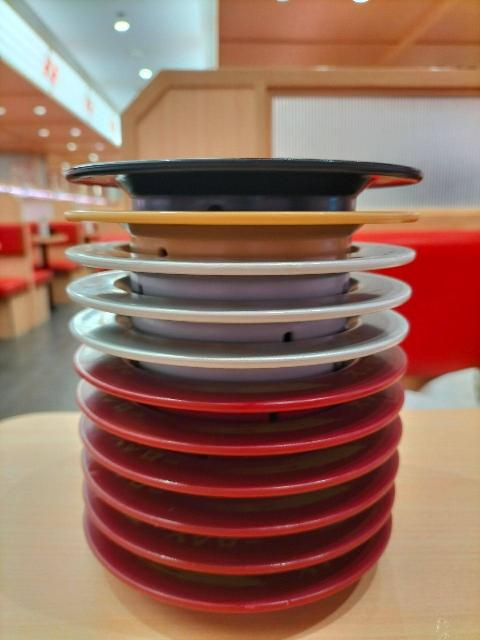jangold: (114, 147, 347, 193), (136, 208, 362, 240)
janred: (60, 443, 432, 507), (96, 370, 416, 438), (101, 567, 384, 640), (97, 413, 389, 481), (101, 518, 379, 588), (93, 493, 389, 552)
janwhite: (98, 247, 382, 301), (111, 298, 366, 342), (104, 344, 397, 376)
